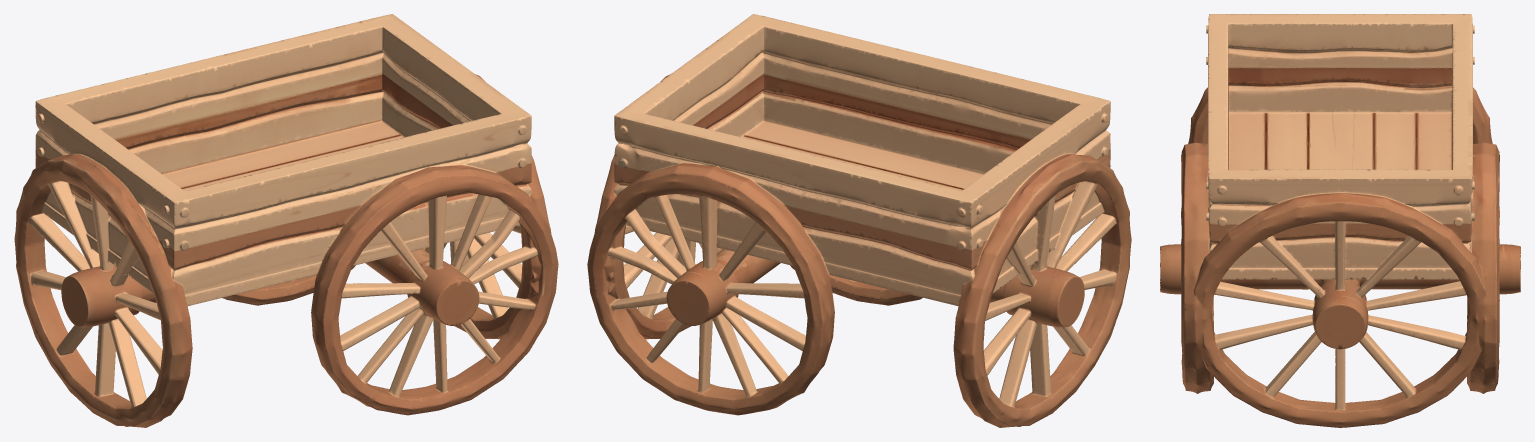
File: Model_Cart.glb
3 views of the same model, side by side, from view 1: azimuth 30°, elevation 25°; view 2: azimuth 150°, elevation 25°; view 3: azimuth 270°, elevation 25° (orthographic). The views are drawn at different scales.
Bounding box in the file's own units: 1.9 × 1.14 × 1.5.
Materials: 1 (1 with a texture image).
